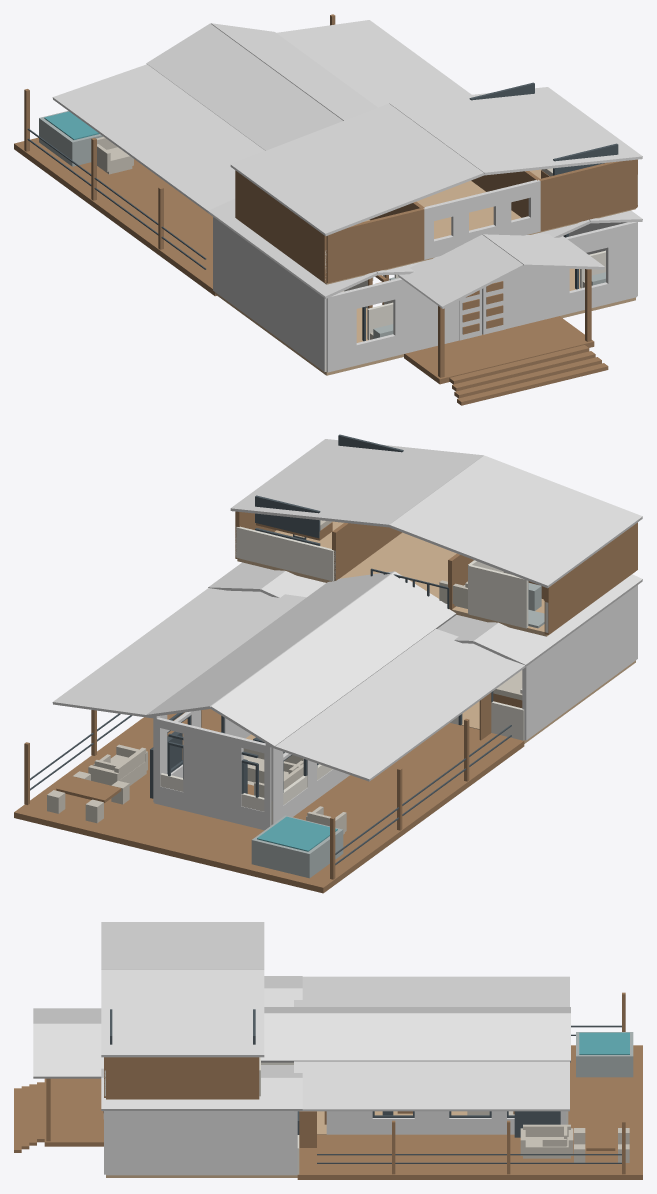
File: cabin.glb
3 renders of one model, top to bottom at view 1: azimuth 30°, elevation 25°; view 2: azimuth 150°, elevation 25°; view 3: azimuth 270°, elevation 25°, orthographic. The views are drawn at different scales.
Parts seen in each view (by area): view 1: Exterior raised roof, Exterior deck cover, Exterior raised roof.001, Exterior main roof, Exterior suite side, Side covered deck, Exterior deck cover.001, Entry porch, Exterior upper front wing, Exterior upper front wing.001, Exterior main roof.001, Exterior entry porch roof (+28 smaller); view 2: Exterior raised roof, Exterior deck cover, Exterior main roof, Exterior deck cover.001, Exterior raised roof.001, Rear deck, Side covered deck, Exterior suite side, Exterior main roof.001, Exterior rear pier.001, Exterior upper end, Open gaming loft floor (+19 smaller); view 3: Exterior main roof.001, Exterior raised roof.001, Exterior deck cover.001, Exterior suite side.001, Side covered deck.001, Exterior deck cover, Exterior raised roof, Rear deck, Exterior upper end.001, Exterior entry porch roof.001, Entry porch, Exterior suite roof.003 (+25 smaller).
Boxes of the visible parts, x1,y1,x2,y2 form: Exterior raised roof: (230,103,484,236); Exterior deck cover: (52,64,264,216); Exterior raised roof.001: (389,87,642,175); Exterior main roof: (146,23,342,150); Exterior suite side: (213,217,326,371); Side covered deck: (58,159,216,296); Exterior deck cover.001: (276,20,471,107); Entry porch: (404,316,594,384); Exterior upper front wing: (326,208,424,283); Exterior upper front wing.001: (538,159,637,231); Exterior main roof.001: (211,23,377,120); Exterior entry porch roof: (398,234,523,308); Exterior raised roof: (389,455,642,588); Exterior deck cover: (265,629,526,781); Exterior main roof: (210,571,456,748); Exterior deck cover.001: (52,588,306,718); Exterior raised roof.001: (230,439,483,527); Rear deck: (14,779,367,893); Side covered deck: (293,723,524,860); Exterior suite side: (522,585,637,740); Exterior main roof.001: (146,571,394,717); Exterior rear pier.001: (183,724,243,824); Exterior upper end: (544,522,637,634); Open gaming loft floor: (340,532,634,636); Exterior main roof.001: (261,1013,570,1062); Exterior raised roof.001: (101,969,264,1057); Exterior deck cover.001: (294,1061,569,1111); Exterior suite side.001: (106,1111,297,1175); Side covered deck.001: (297,1134,566,1179); Exterior deck cover: (294,976,569,1006); Exterior raised roof: (101,922,264,969); Rear deck: (566,1045,642,1179); Exterior upper end.001: (106,1057,259,1098); Exterior entry porch roof.001: (33,1023,103,1078); Entry porch: (44,1078,103,1146); Exterior suite roof.003: (101,1077,302,1110).
Size of the model in its own units: 16.43 by 8.78 by 32.8.
